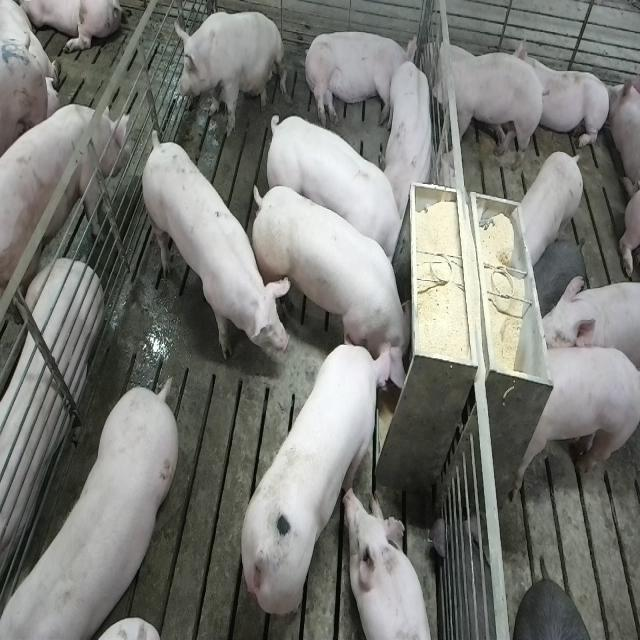Feeding: (239, 336, 393, 619), (254, 179, 420, 388)
Lateral_lying: (0, 260, 102, 602), (302, 28, 418, 128)
Sitting: (175, 8, 285, 138)
Standing: (0, 382, 176, 640), (137, 131, 286, 382), (0, 96, 131, 313), (266, 106, 404, 262), (513, 345, 639, 500), (423, 31, 547, 171), (537, 274, 640, 408), (516, 150, 586, 266), (533, 238, 589, 320)
Sternal_lying: (345, 488, 433, 640), (519, 35, 611, 154), (381, 52, 436, 213)
